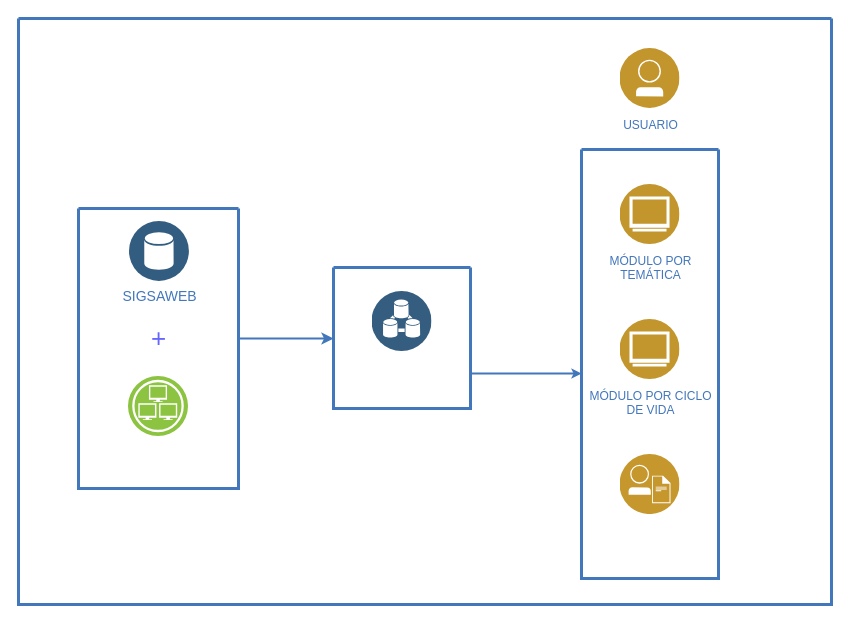
Image size: 850x623. Some labels were removed from this diagram. The shapes that lost their labels are listed below. From the top down, each one's centre as x and y in pixels, then its label:
(402,321): DATOS ESTADÍSTICOS
(158,406): FUENTES COMPLEMENTARIAS
(650,484): MÓDULO MORBILIDAD
